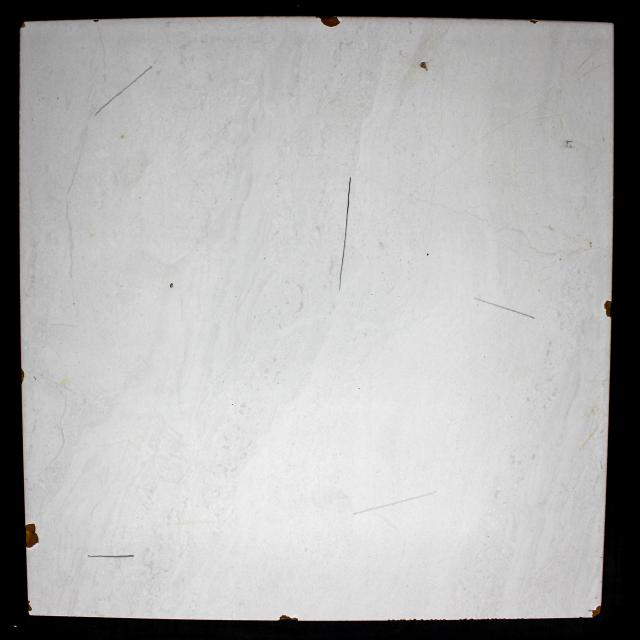edge-chipping: (25, 523, 40, 549), (315, 16, 342, 28), (588, 605, 601, 618), (603, 300, 612, 318), (278, 614, 298, 621), (21, 368, 25, 386), (20, 21, 26, 29), (28, 600, 32, 612)
hole: (418, 60, 428, 72), (169, 282, 175, 289)
line: (338, 175, 352, 293), (93, 90, 124, 117), (125, 65, 153, 89), (396, 490, 438, 504), (352, 504, 394, 516), (504, 308, 536, 320), (472, 297, 502, 308), (88, 554, 134, 558)
